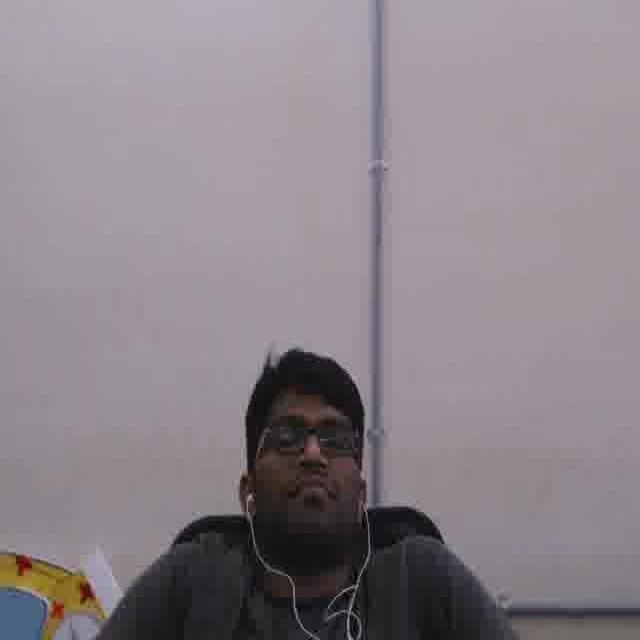Engaged: (257, 388, 355, 537)
